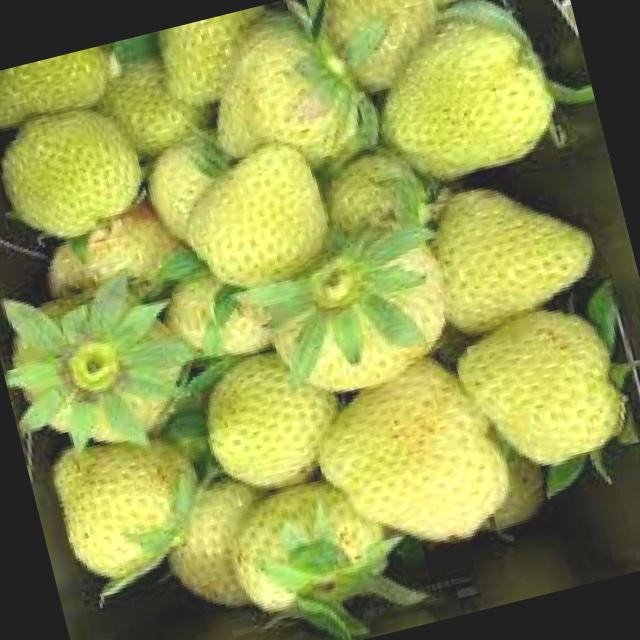Strawberry: (302, 346, 522, 566), (361, 0, 565, 189), (252, 218, 456, 404), (448, 292, 636, 477), (0, 284, 194, 455), (192, 2, 372, 182), (417, 163, 605, 335), (47, 417, 215, 589), (170, 136, 340, 300), (222, 468, 398, 626), (192, 336, 356, 500), (0, 96, 154, 248), (192, 348, 343, 503), (155, 478, 281, 622), (34, 206, 184, 320), (309, 0, 473, 99), (96, 58, 208, 170), (310, 146, 430, 248), (157, 9, 265, 110), (0, 45, 116, 136)
